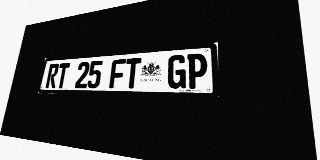2: (75, 61, 90, 88)
5: (87, 60, 103, 88)
F: (109, 59, 126, 88)
G: (167, 54, 187, 89)
P: (186, 53, 207, 89)
R: (45, 63, 59, 88)
T: (124, 58, 141, 88), (55, 63, 70, 88)
